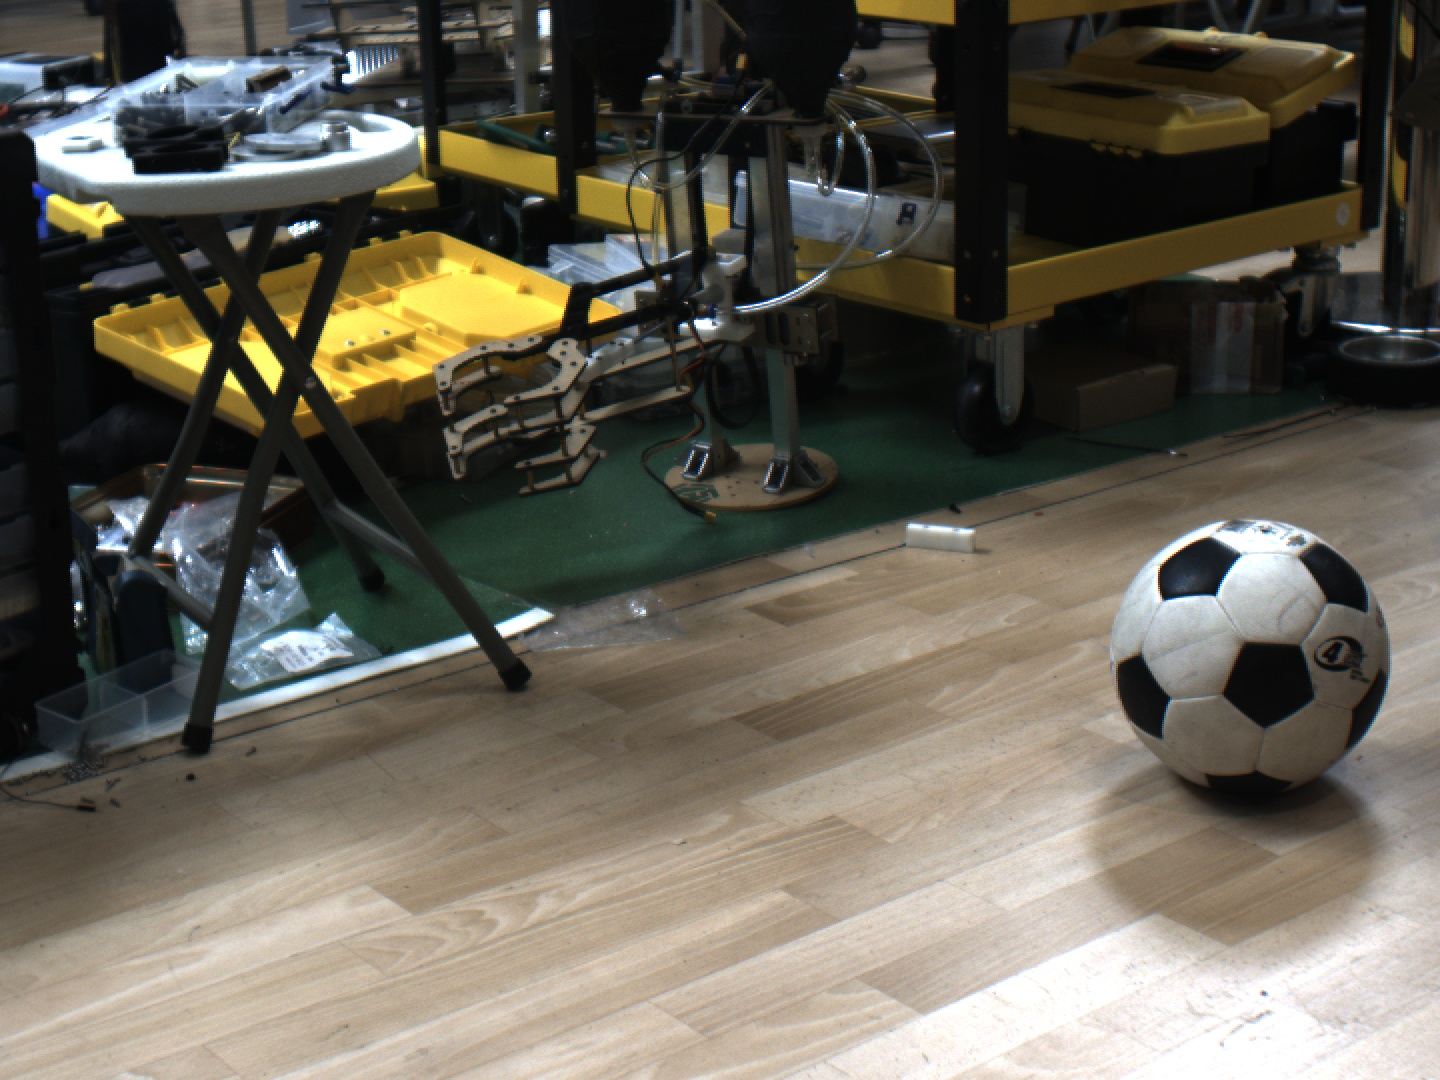ball: (1086, 503, 1433, 836)
